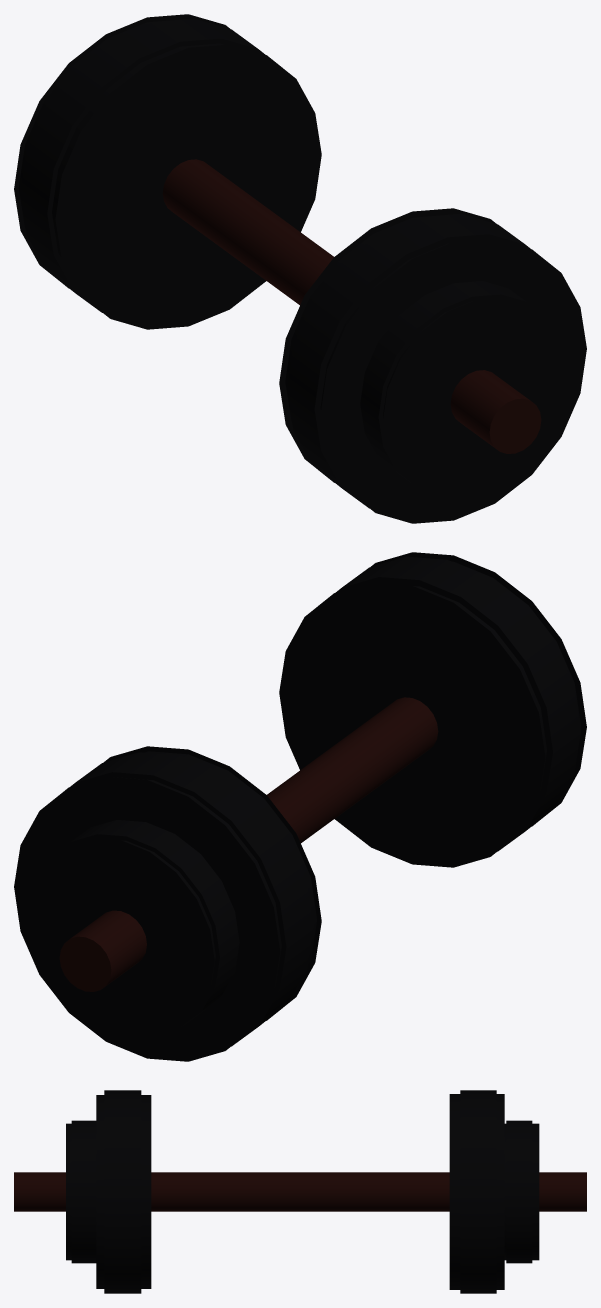
Rendered from pesoacademia.fbx.
3 renders of one model, top to bottom at view 1: azimuth 30°, elevation 25°; view 2: azimuth 150°, elevation 25°; view 3: azimuth 270°, elevation 25°, orthographic. The views are drawn at different scales.
Visible parts, largest first — view 1: pCylinder6; view 2: pCylinder6; view 3: pCylinder6.
Part boxes in pixels (x1,y1,x2,y2): pCylinder6: (14,14,586,523); pCylinder6: (14,552,586,1061); pCylinder6: (14,1090,586,1293).
Size of the model in its own units: 5.6 by 5.6 by 15.67.
